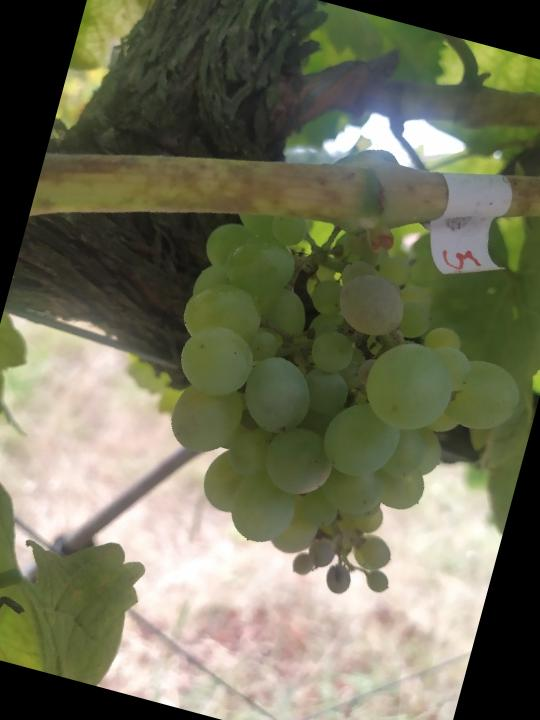grape: (119, 178, 540, 630)
